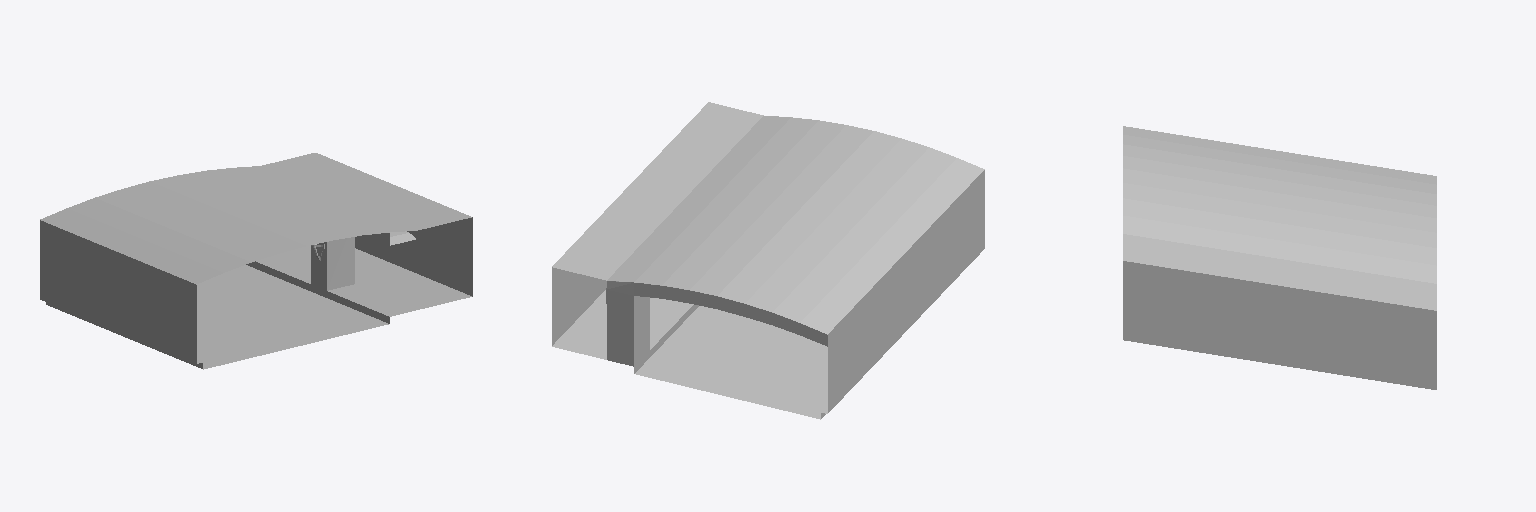
The model's file is catacomb_str_2.obj.
The picture shows the model from 3 angles: view 1: azimuth 30°, elevation 25°; view 2: azimuth 150°, elevation 25°; view 3: azimuth 270°, elevation 25°; orthographic projection.
Parts seen in each view (by area): view 1: catacomb_str_1, catacomb_str_1 main_pillar_2; view 2: catacomb_str_1, catacomb_str_1 main_pillar_1; view 3: catacomb_str_1.
Part boxes in pixels (left/top/right/bottom): catacomb_str_1: left=40, top=153, right=472, bottom=369; catacomb_str_1 main_pillar_2: left=311, top=237, right=354, bottom=290; catacomb_str_1: left=552, top=102, right=984, bottom=419; catacomb_str_1 main_pillar_1: left=606, top=281, right=827, bottom=366; catacomb_str_1: left=1123, top=126, right=1436, bottom=389.
Bounding box in the file's own units: 10 × 5.14 × 9.87.